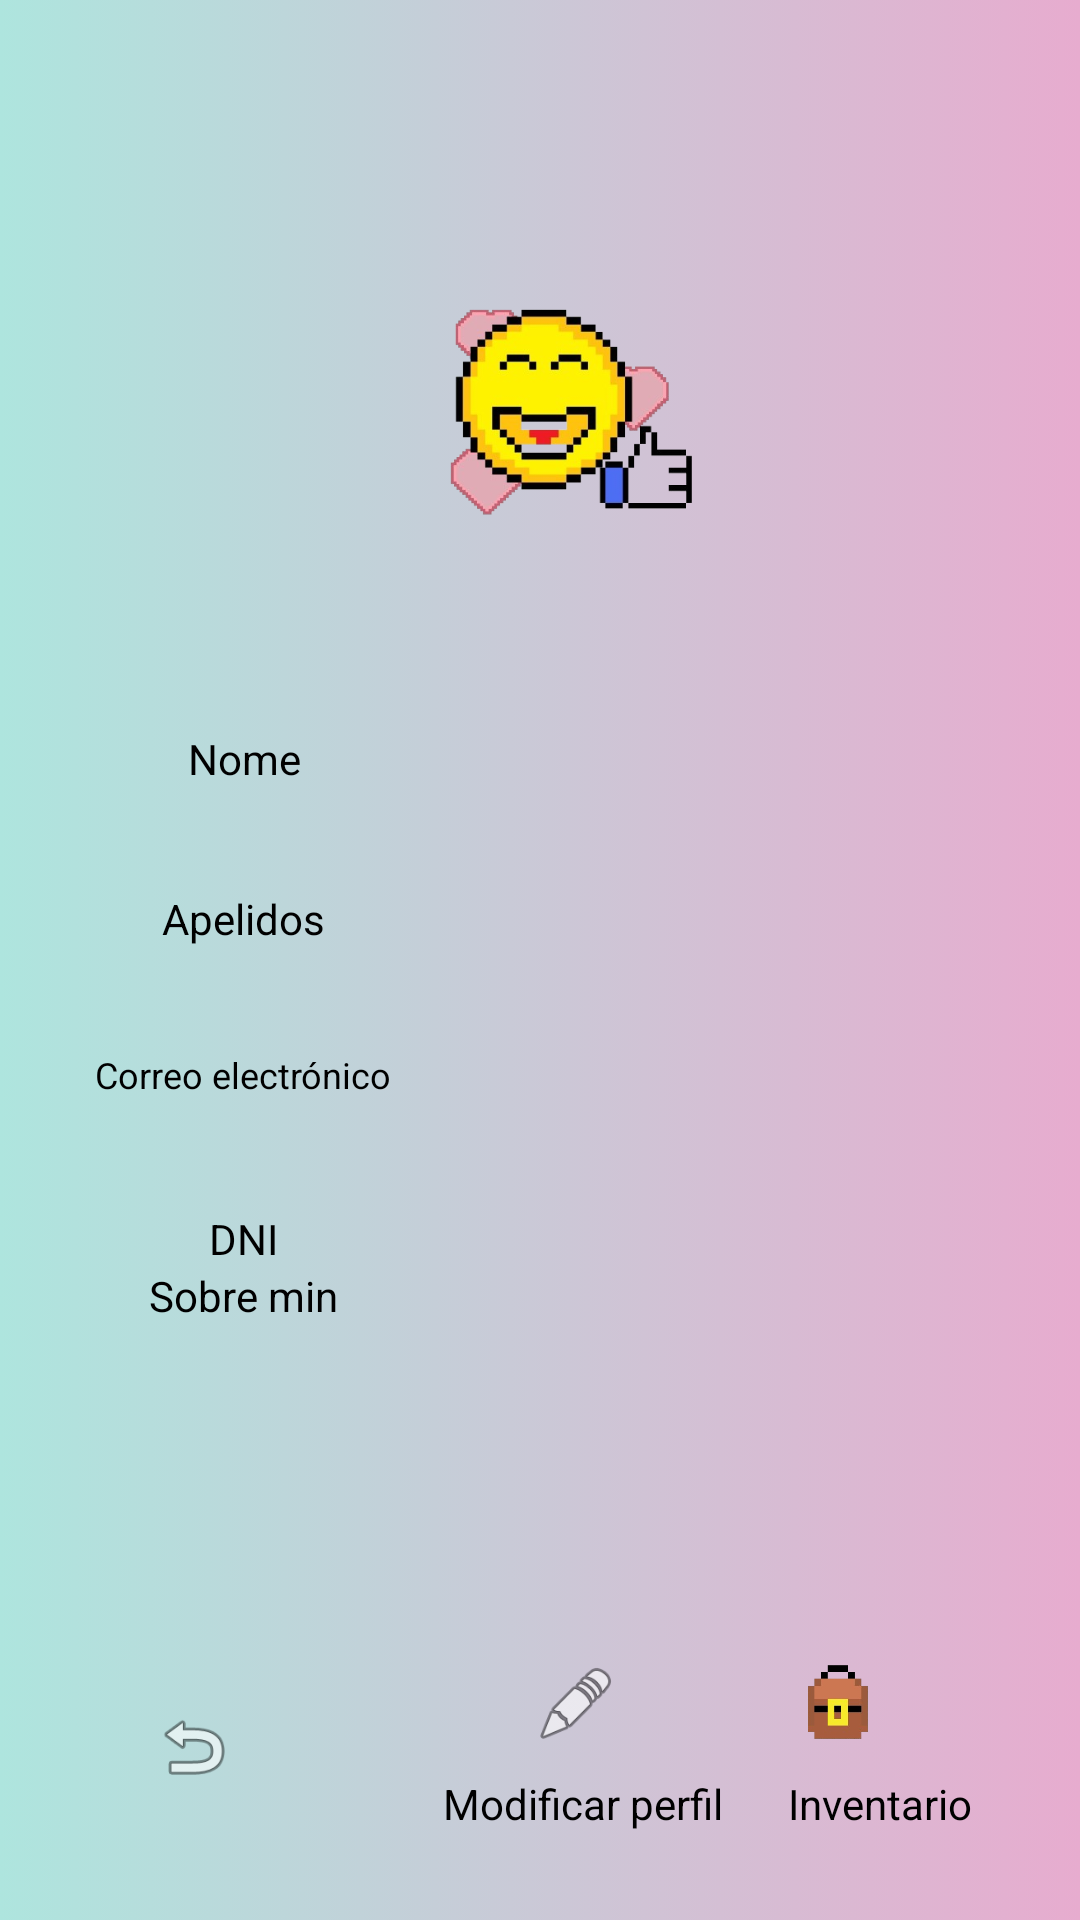

Screen size 1080x1920. Icon name, then its box in pixels as (x1, y1, x2, y2):
edit: (540, 1668, 611, 1739)
revert: (164, 1720, 225, 1775)
